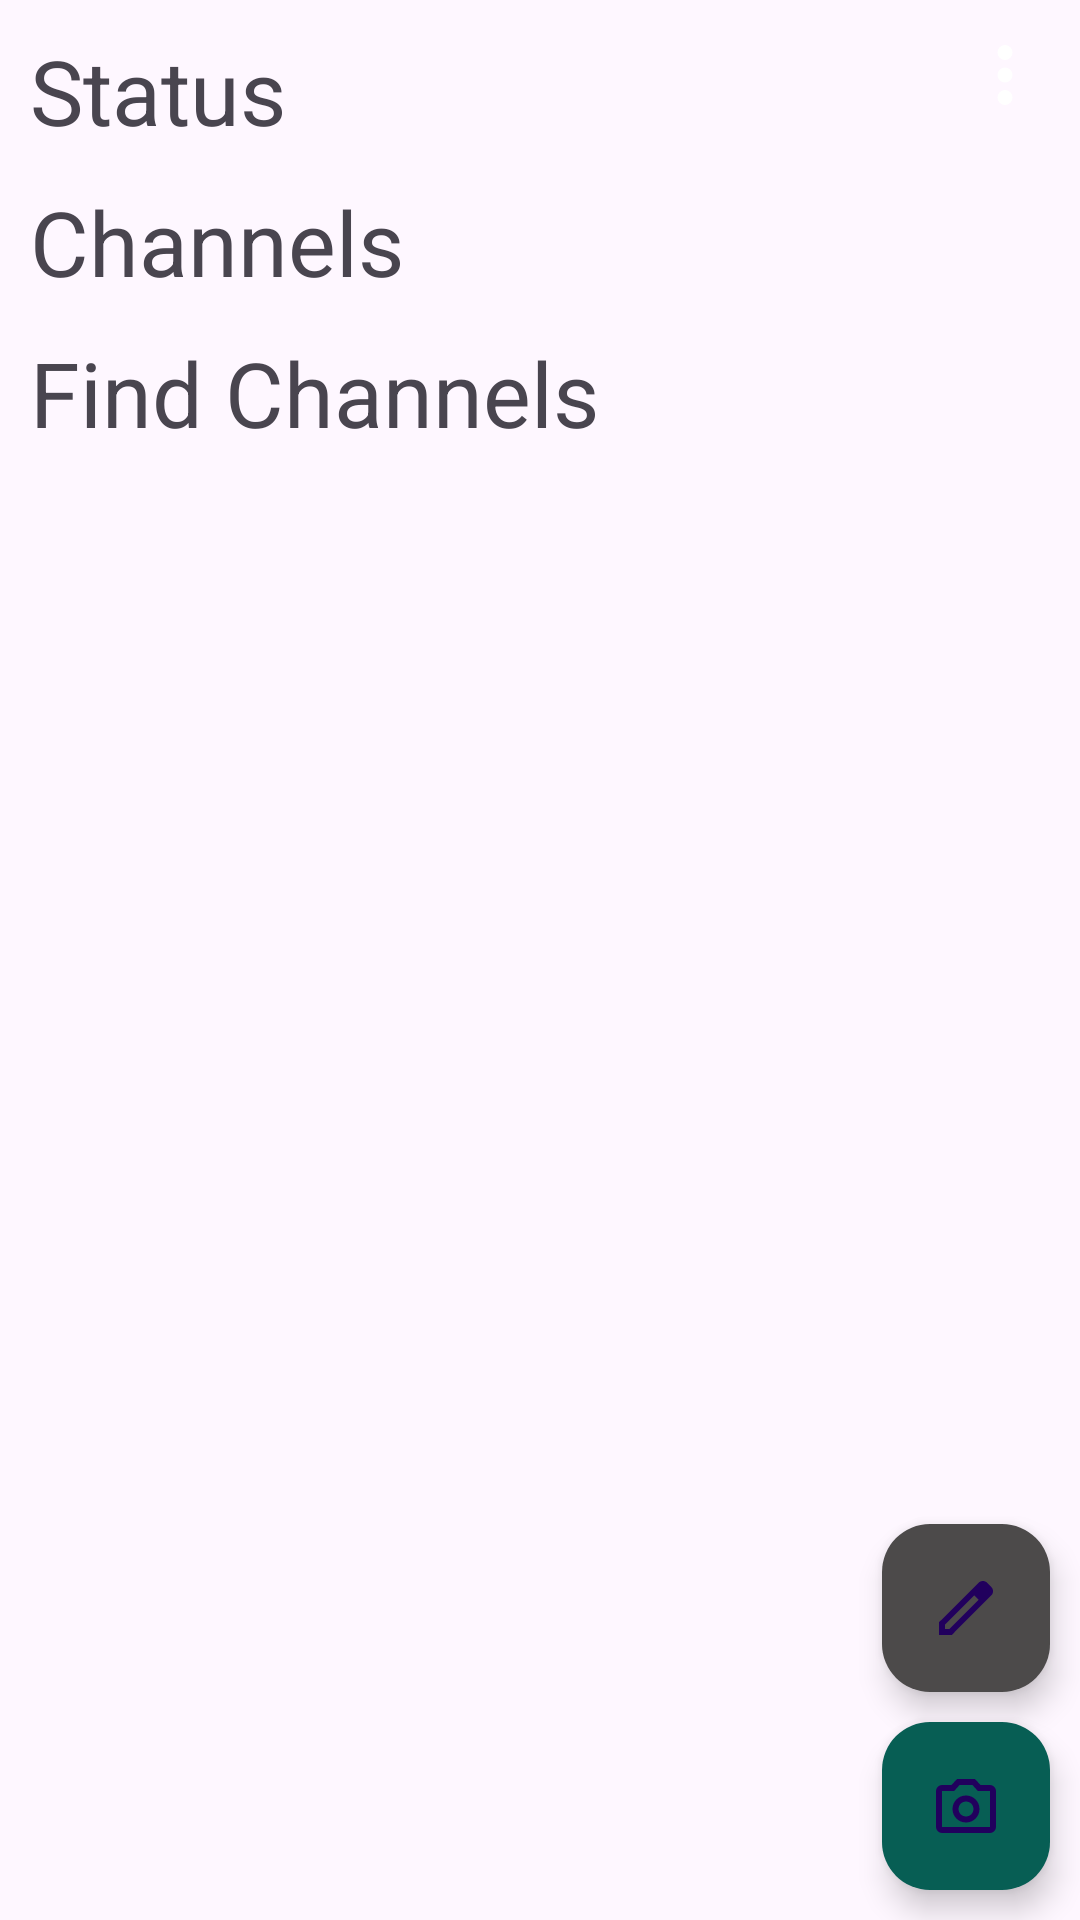

Icons on this 1080*1920 Android screen, each with the point to tap as point (x, y):
edit: point (966, 1608)
photo camera: point (966, 1806)
